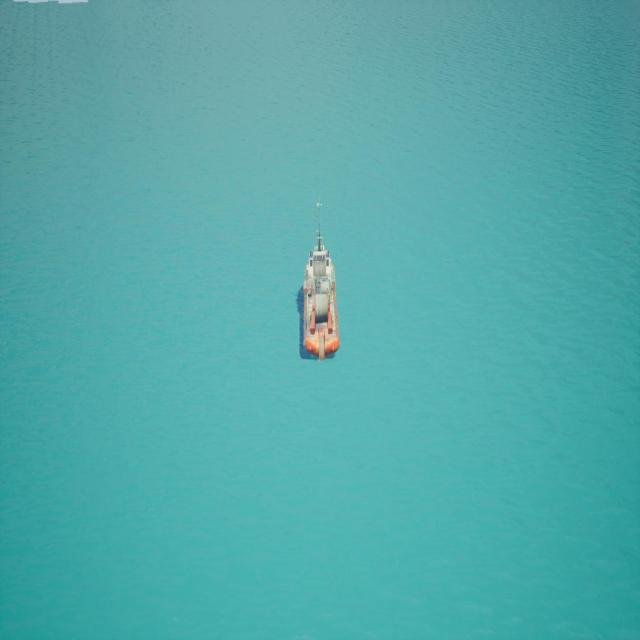tug boat: (298, 195, 342, 362)
